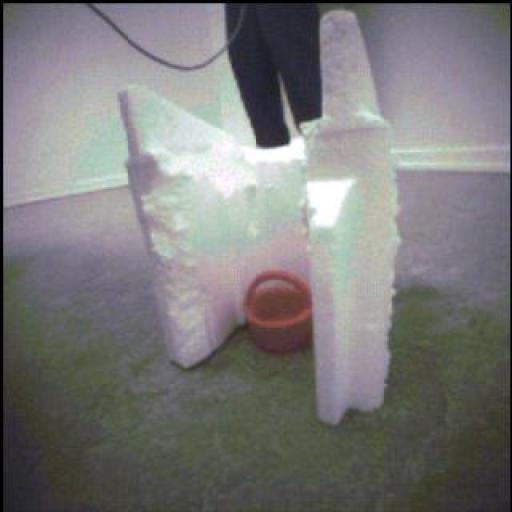Bucket: (236, 275, 327, 355)
